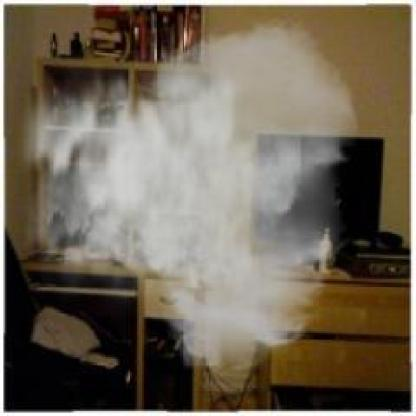Smoke: (1, 15, 361, 375)
